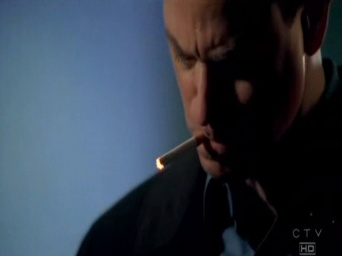smoke: (154, 131, 202, 169)
